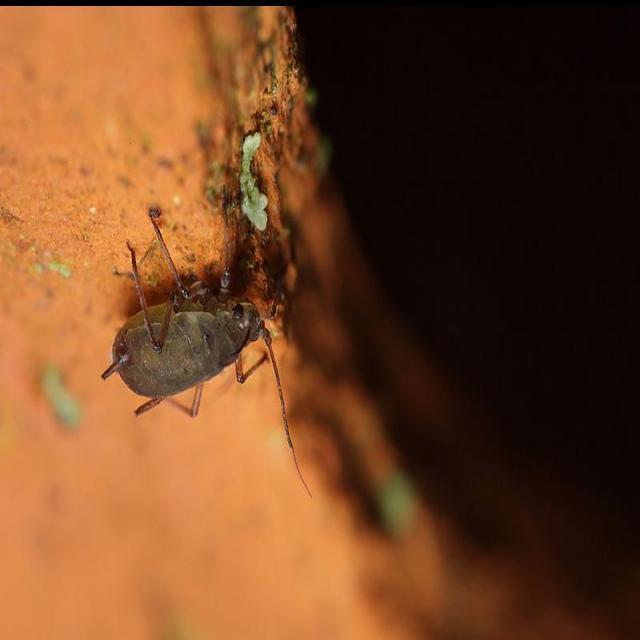aphid: (72, 197, 339, 461)
